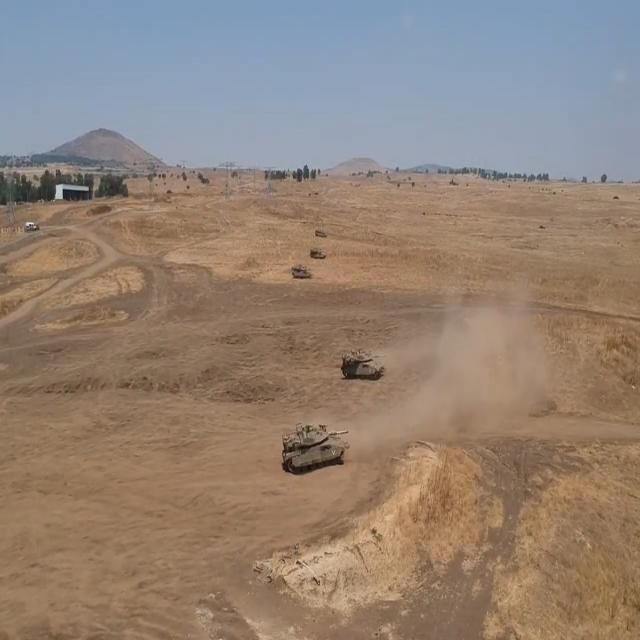tank: (285, 417, 357, 483), (344, 336, 389, 383), (290, 262, 310, 283), (311, 245, 326, 261), (316, 220, 328, 234)
